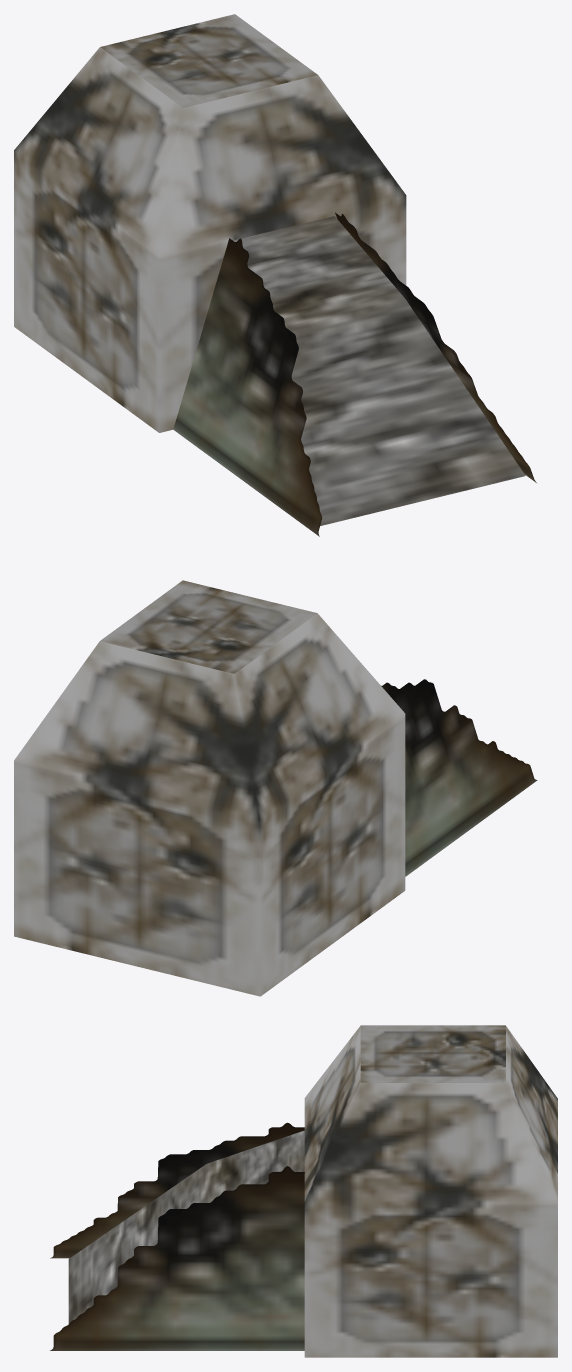
The model's file is l_lightwall_dam.glb.
3 views of the same model, one above another, from view 1: azimuth 30°, elevation 25°; view 2: azimuth 150°, elevation 25°; view 3: azimuth 270°, elevation 25° (orthographic). The views are drawn at different scales.
Visible parts, largest first — view 1: L_LightWallDAM; view 2: L_LightWallDAM; view 3: L_LightWallDAM.
Boxes of the visible parts, <box> form: L_LightWallDAM: <box>14,14,536,536</box>; L_LightWallDAM: <box>14,580,537,996</box>; L_LightWallDAM: <box>50,1025,557,1357</box>.
Bounding box in the file's own units: 4.16 × 4.63 × 9.1.
Materials: 1 (1 with a texture image).
